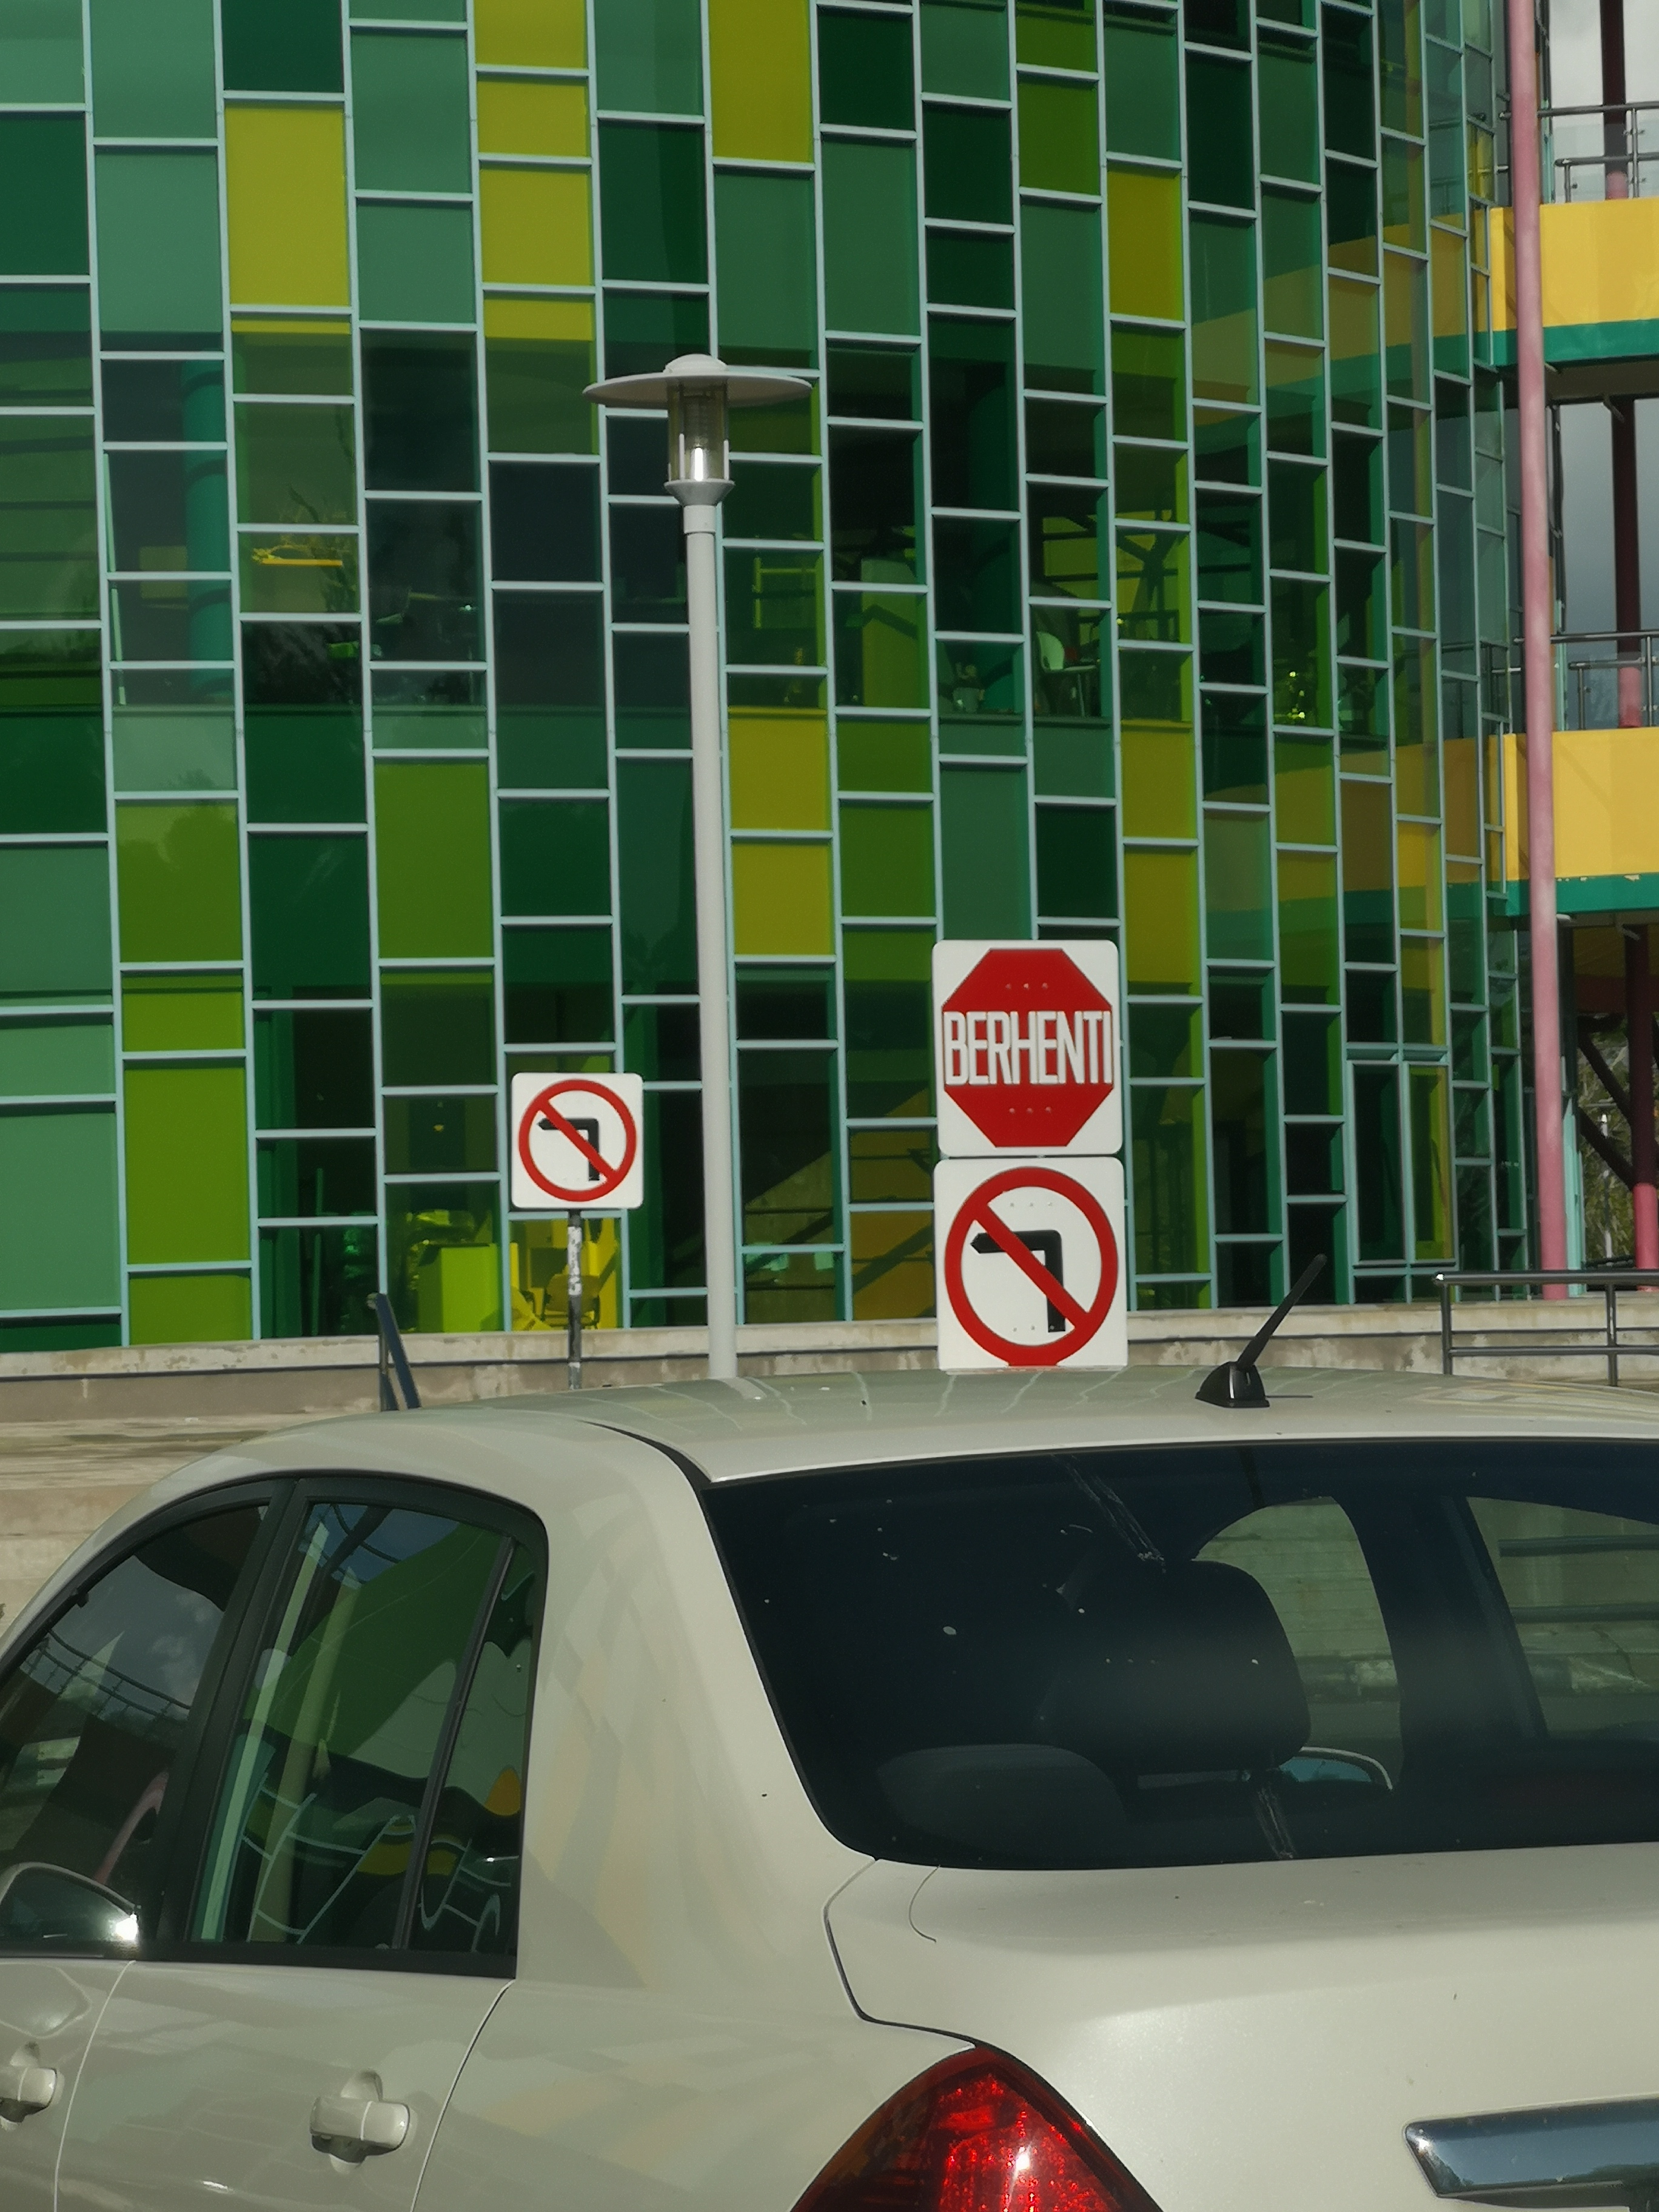no left turn: (932, 1172, 1143, 1367), (498, 1068, 652, 1216)
stop: (931, 944, 1134, 1160)
